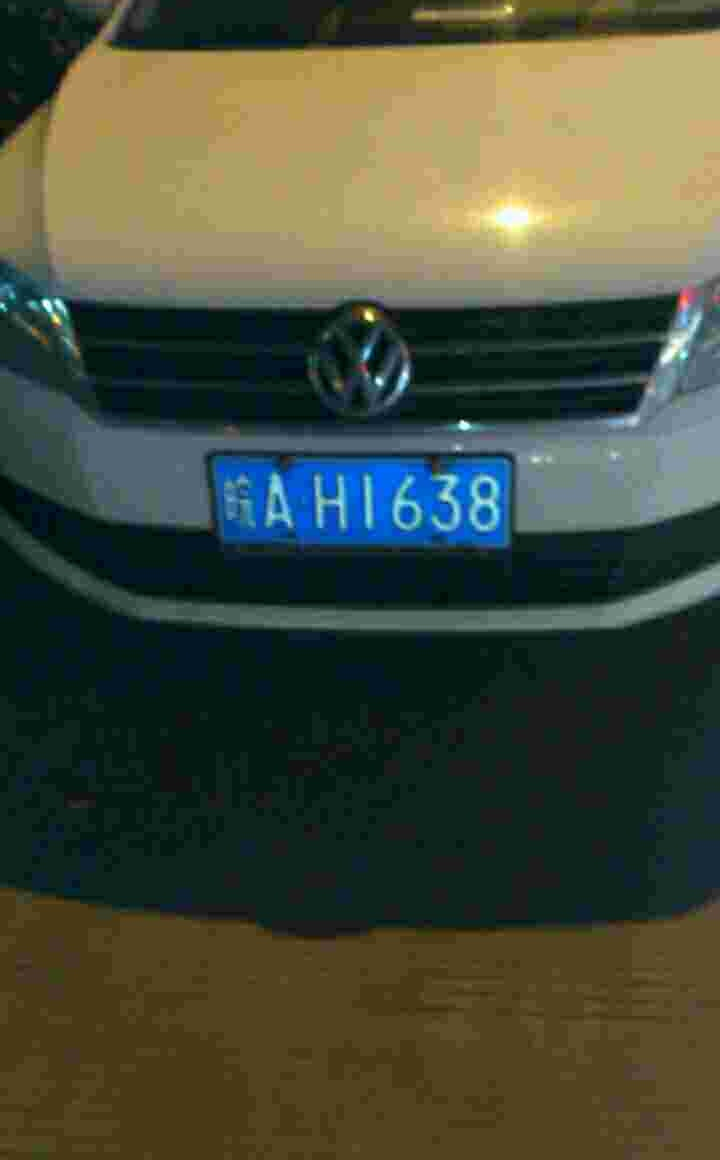license_plate: (209, 463, 508, 554)
